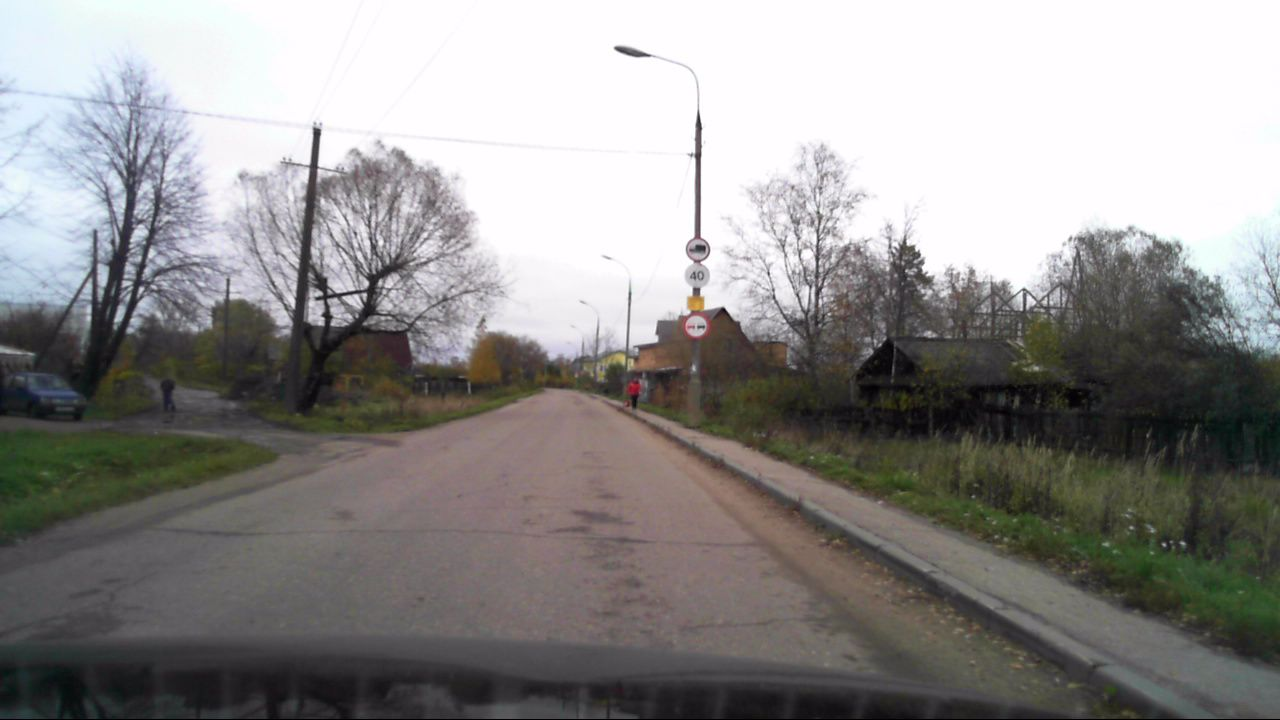speed_warning_40: (684, 264, 710, 290)
